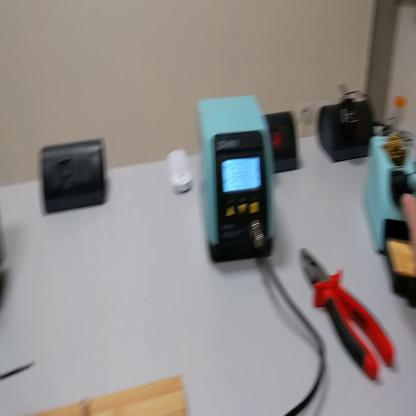hand: (402, 191, 416, 247)
pliers: (299, 248, 393, 383)
socket: (318, 96, 373, 165), (262, 114, 298, 177)
welder base: (366, 131, 416, 308)
welder probe tip: (386, 174, 416, 200)
welder station: (198, 100, 278, 265)
working area: (27, 376, 185, 413)
